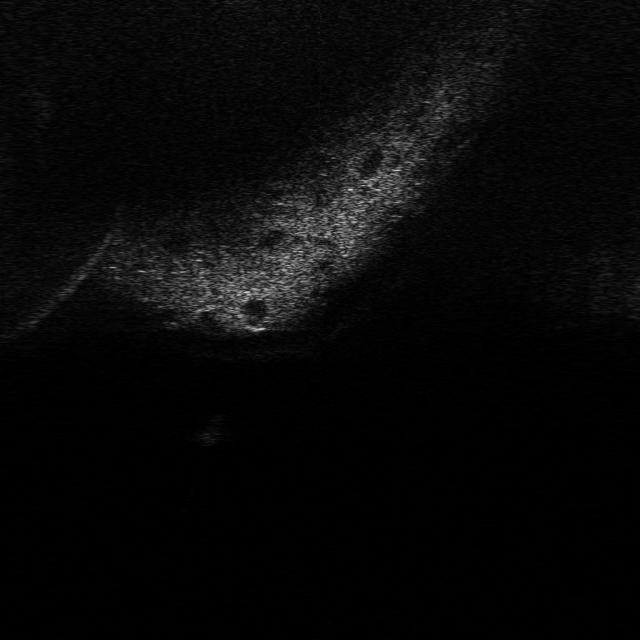cylinder: (196, 411, 224, 447)
